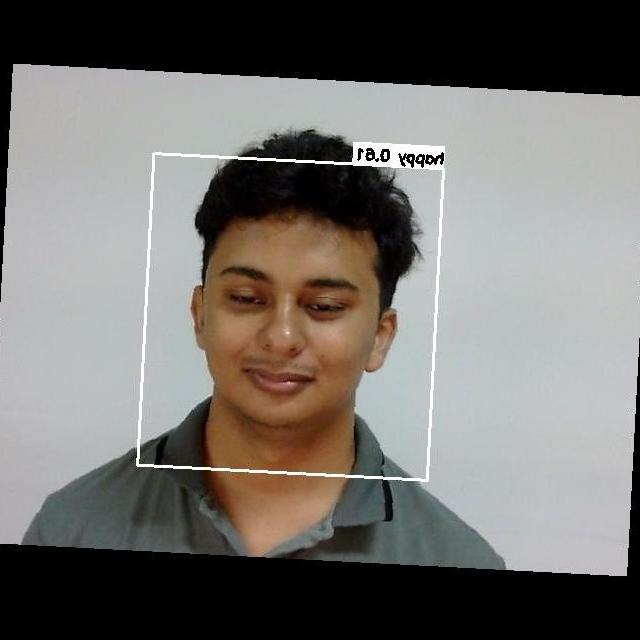Happy: (199, 245, 385, 421)
